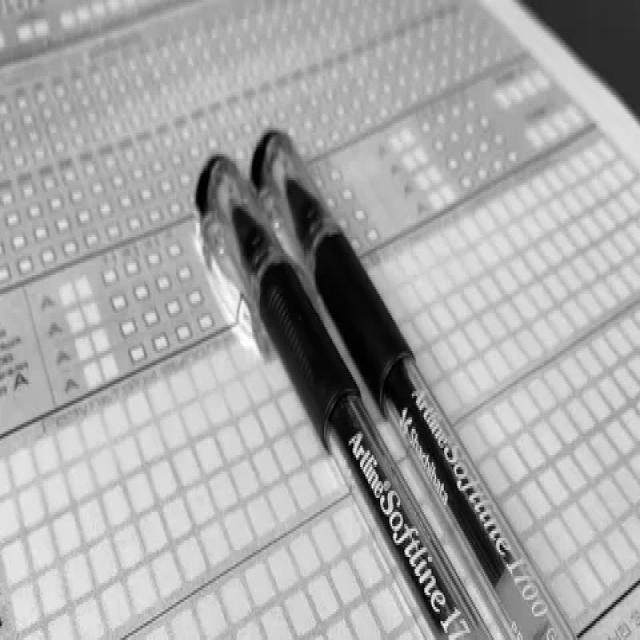pencil: (250, 119, 580, 640), (181, 143, 472, 640)
